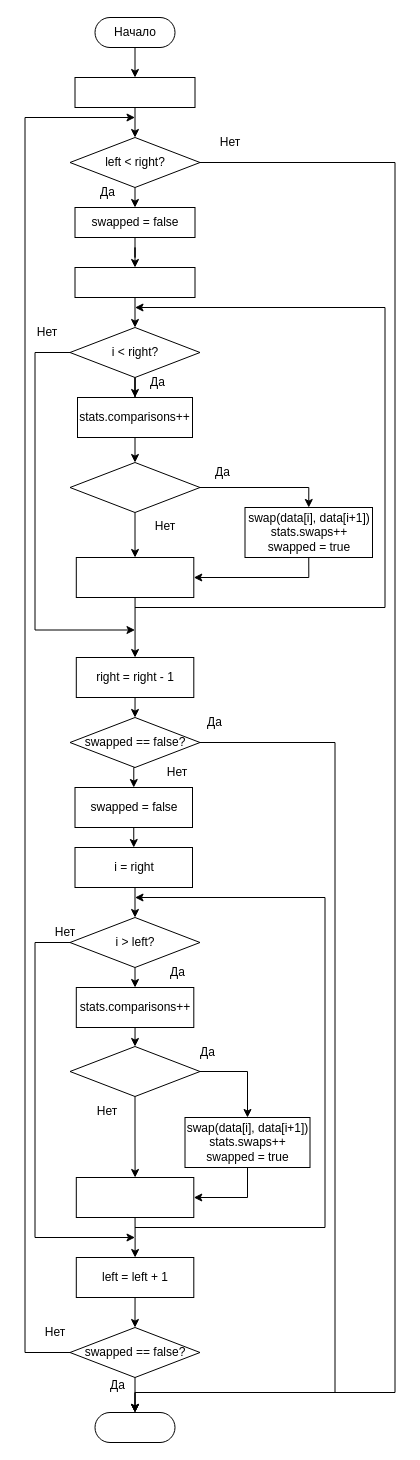
This 420x1460 diagram has some shape labels left out. Each missing label, with the box of its shape:
data[i-1] > data[i]?: (69, 1046, 200, 1096)
data[i] > data[i+1]?: (69, 462, 200, 512)
i = i+1: (75, 556, 194, 598)
i = i-1: (75, 1176, 194, 1218)
i = left: (74, 266, 195, 298)
left = 0 right = n - 1: (74, 76, 195, 108)
Конец: (94, 1412, 175, 1442)
